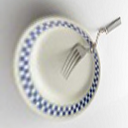fork: (64, 13, 127, 84)
